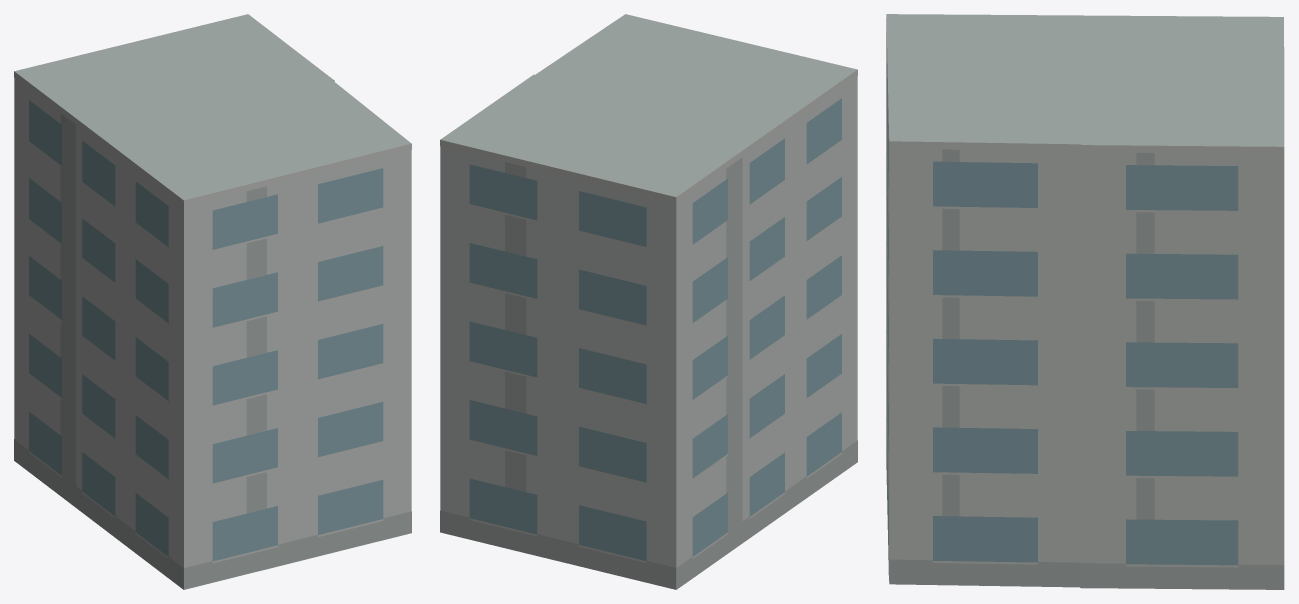
The model's file is survey-upis-32813662.glb.
3 renders of one model, left to right at view 1: azimuth 30°, elevation 25°; view 2: azimuth 150°, elevation 25°; view 3: azimuth 270°, elevation 25°, orthographic. The views are drawn at different scales.
Visible parts, largest first — view 1: survey-upis-32813662.tmp; view 2: survey-upis-32813662.tmp; view 3: survey-upis-32813662.tmp.
Part boxes in pixels (x1,y1,x2,y2): survey-upis-32813662.tmp: [14, 14, 411, 589]; survey-upis-32813662.tmp: [440, 14, 857, 589]; survey-upis-32813662.tmp: [886, 14, 1284, 589].
Size of the model in its own units: 9.53 by 14.8 by 12.07.
